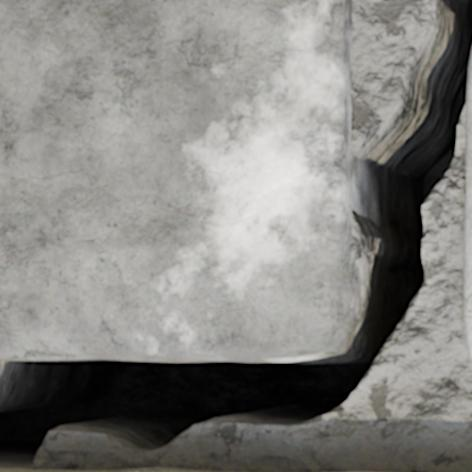brick: (0, 0, 351, 358), (463, 56, 471, 355), (0, 468, 221, 471)
crack: (0, 0, 471, 469)
